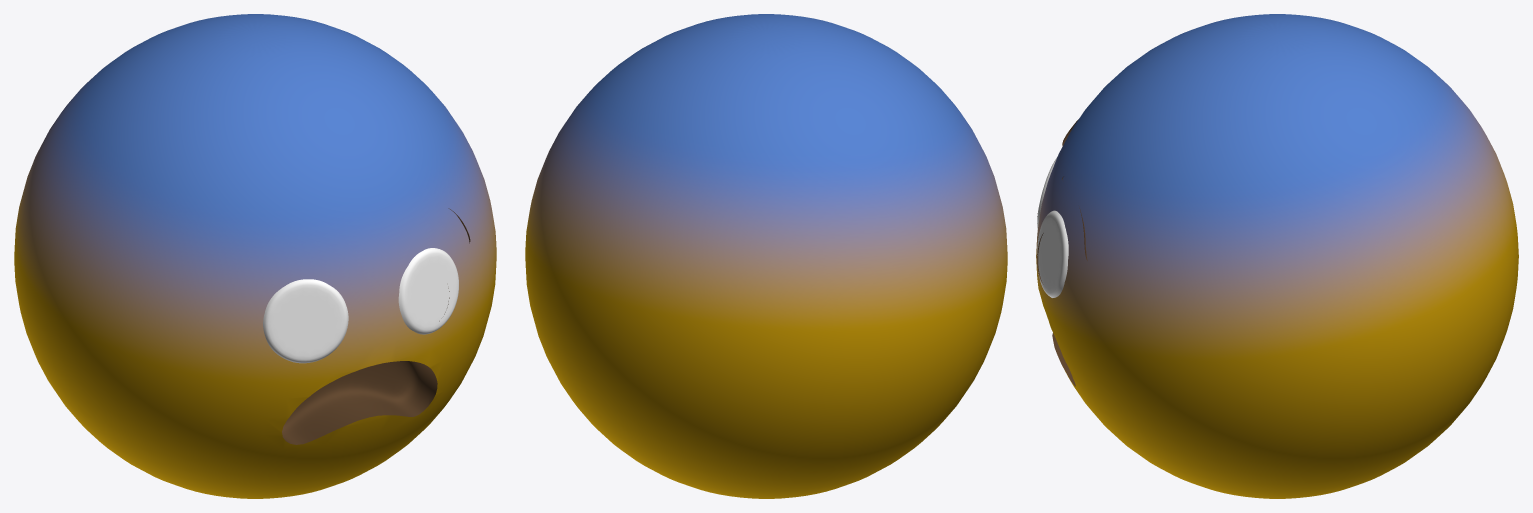
Rendered from scared2.glb.
3 renders of one model, left to right at view 1: azimuth 30°, elevation 25°; view 2: azimuth 150°, elevation 25°; view 3: azimuth 270°, elevation 25°, orthographic.
Visible parts, largest first — view 1: Sphere.003; view 2: Sphere.003; view 3: Sphere.003.
Boxes of the visible parts, <box> form: Sphere.003: <box>14,14,496,498</box>; Sphere.003: <box>525,14,1007,498</box>; Sphere.003: <box>1036,14,1518,498</box>.
Size of the model in its own units: 7.34 by 7.42 by 7.34.
Materials: 1 (1 with a texture image).
